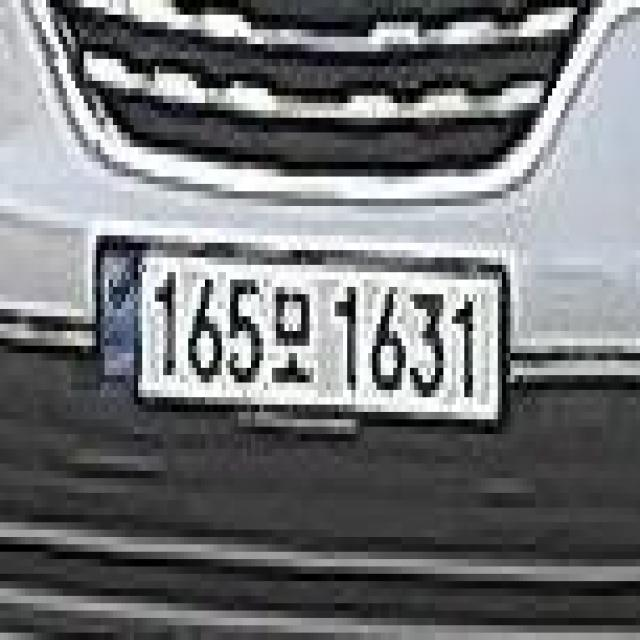illegal_plate: (91, 230, 512, 449)
